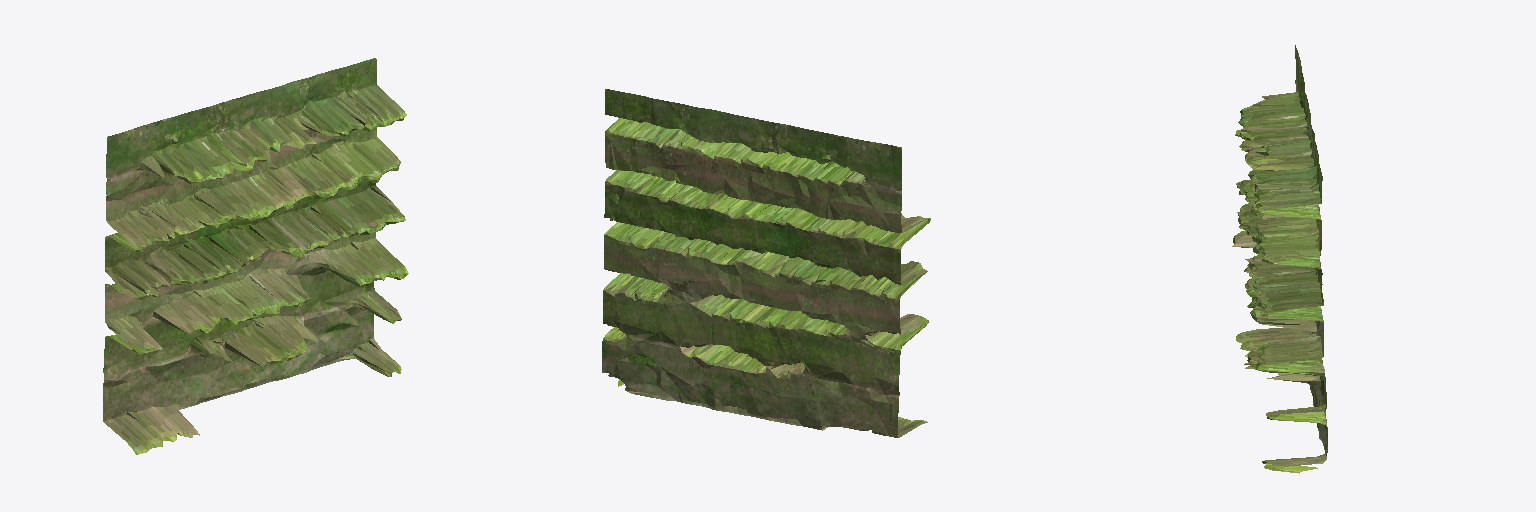
3 renders of one model, left to right at view 1: azimuth 30°, elevation 25°; view 2: azimuth 150°, elevation 25°; view 3: azimuth 270°, elevation 25°, orthographic.
Parts seen in each view (by area): view 1: grp1; view 2: grp1; view 3: grp1.
Boxes of the visible parts, <box> form: grp1: <box>103,58,408,454</box>; grp1: <box>602,89,930,437</box>; grp1: <box>1232,45,1327,473</box>.
Size of the model in its own units: 10 by 10 by 2.91.
Materials: 1 (1 with a texture image).